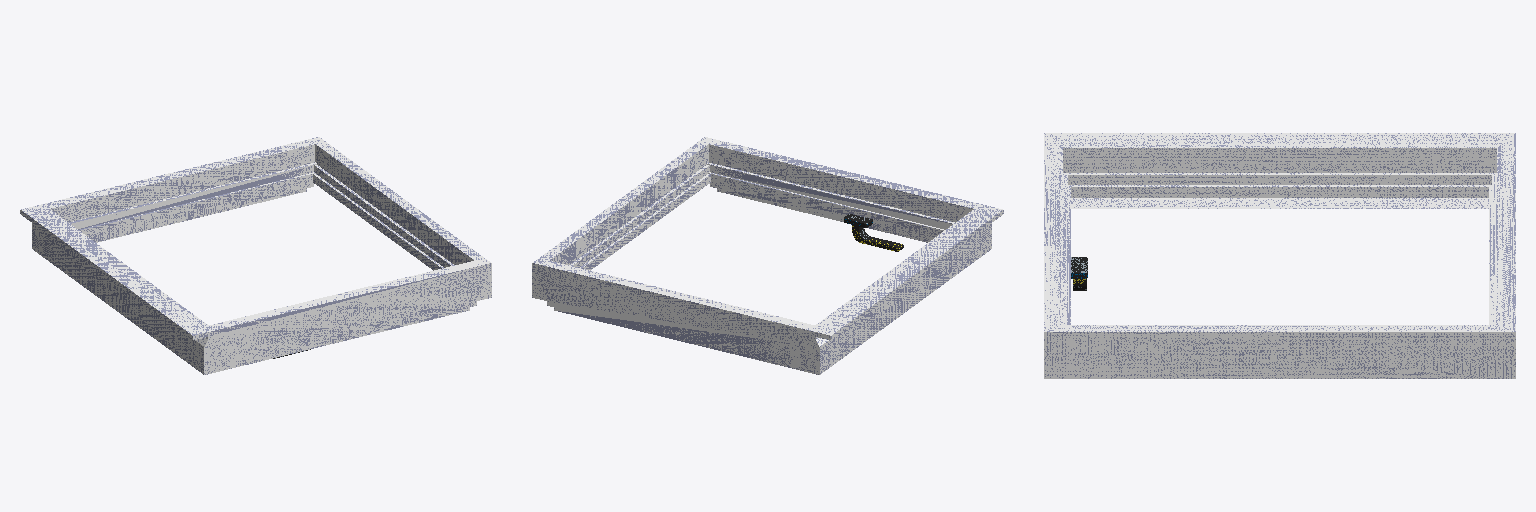
robot.urdf — window:
<?xml version="1.0" ?>
<robot name="window">
	<link name="base"/>
	<link name="link_0">
		<visual name="out-frame">
			<origin xyz="0 0 0"/>
			<geometry>
				<mesh filename="texture_dae/untitled.dae" scale="0.5 0.5 0.5"/>
			</geometry>
		</visual>
		<collision>
			<origin xyz="0 0 0"/>
			<geometry>
				<mesh filename="texture_dae/untitled.dae" scale="0.5 0.5 0.5"/>
			</geometry>
		</collision>
	</link>
	<joint name="joint_0" type="fixed">
		<origin rpy="1.570796326794897 0 -1.570796326794897" xyz="0 0 0"/>
		<child link="link_0"/>
		<parent link="base"/>
	</joint>
	<link name="link_1">
		<visual name="surf-board">
			<origin xyz="0.4266382184276609 -0.3915905962527546 0"/>
			<geometry>
				<mesh filename="texture_dae/untitled1.dae" scale="0.5 0.5 0.5"/>
			</geometry>
		</visual>
		<collision>
			<origin xyz="0.4266382184276609 -0.3915905962527546 0"/>
			<geometry>
				<mesh filename="texture_dae/untitled1.dae" scale="0.5 0.5 0.5"/>
			</geometry>
		</collision>
	</link>
	<joint name="joint_1" type="revolute">
		<origin xyz="-0.4266382184276609 0.3915905962527546 0"/>
		<axis xyz="0 -1 0"/>
		<child link="link_1"/>
		<parent link="link_0"/>
		<limit lower="0" upper="1.5079644737231006"/>
	</joint>
	<link name="link_2">
		<visual name="handle">
			<origin xyz="0 0 0"/>
			<geometry>
				<mesh filename="texture_dae/9969523-handle.dae" scale="1.7123141347874917 1.7123141347874917 1.7123141347874917"/>
			</geometry>
		</visual>
		<collision>
			<origin xyz="0 0 0"/>
			<geometry>
				<mesh filename="texture_dae/9969523-handle.dae" scale="1.7123141347874917 1.7123141347874917 1.7123141347874917"/>
			</geometry>
		</collision>
	</link>
	<joint name="joint_2" type="revolute">
		<origin xyz="0 0 0"/>
		<child link="link_2"/>
		<parent link="link_3"/>
		<axis xyz="0 0 1"/>
		<limit lower="0" upper="1.5079644737231006"/>
	</joint>
	<link name="link_3">
		<visual name="lock">
			<origin xyz="0 0 0"/>
			<geometry>
				<mesh filename="texture_dae/9969523-lock.dae" scale="1.7123141347874917 1.7123141347874917 1.7123141347874917"/>
			</geometry>
		</visual>
		<collision>
			<origin xyz="0 0 0"/>
			<geometry>
				<mesh filename="texture_dae/9969523-lock.dae" scale="1.7123141347874917 1.7123141347874917 1.7123141347874917"/>
			</geometry>
		</collision>
	</link>
	<joint name="joint_3" type="fixed">
		<origin xyz="0.8231999820702591 -0.3915905962527546 0.052945051072655125"/>
		<child link="link_3"/>
		<parent link="link_1"/>
	</joint>
</robot>

--- Facts derived from the render (not from the file) ---
Views: 3 orthographic renders of the robot side by side, from view 1: azimuth 30°, elevation 25°; view 2: azimuth 150°, elevation 25°; view 3: azimuth 270°, elevation 25°.
Model window with 5 links and 4 joints (2 revolute, 2 fixed), rooted at base, posed all joints at 0.
Links seen in each view (by area): view 1: link_0; view 2: link_0, link_2; view 3: link_0.
Boxes of the visible links, left/top/right/bottom form: link_0: left=20, top=137, right=491, bottom=374; link_0: left=532, top=137, right=1003, bottom=374; link_2: left=852, top=225, right=903, bottom=251; link_0: left=1044, top=133, right=1515, bottom=378.
Size in the robot's own frame: 0.936 by 0.936 by 0.1591 metres.
Meshes: 4 distinct files referenced, 3 mesh visuals loaded (3 Collada DAE); not drawn: 1 (file found but could not be loaded).